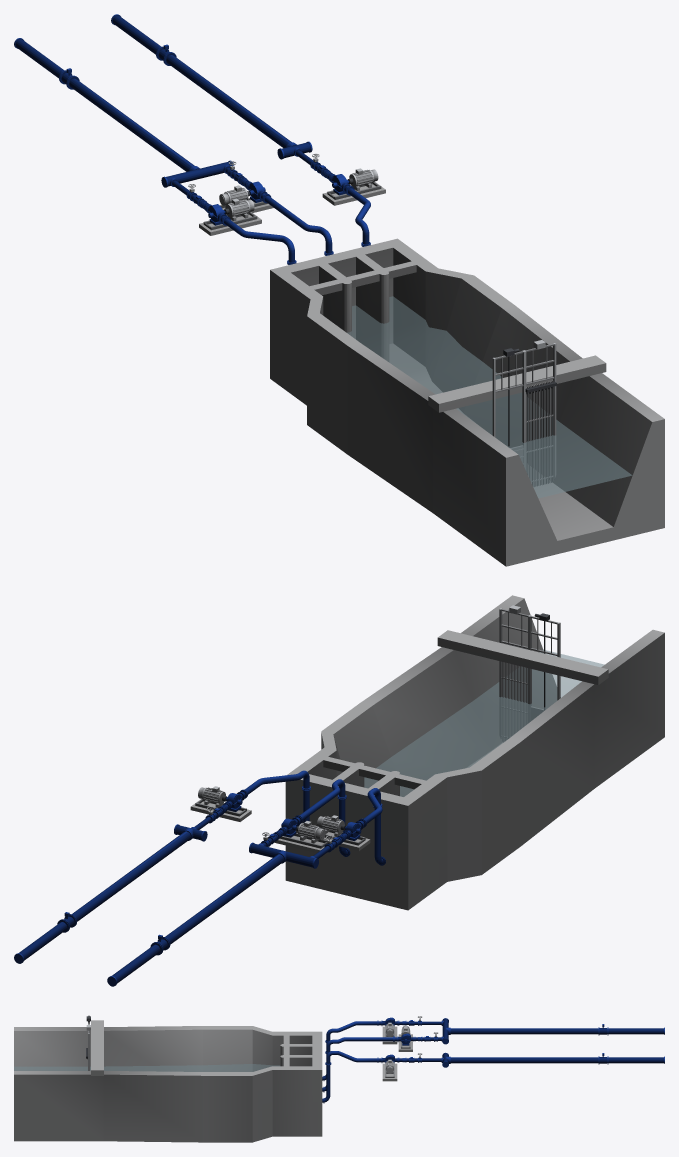
The picture shows the model from 3 angles, top to bottom: view 1: azimuth 30°, elevation 25°; view 2: azimuth 150°, elevation 25°; view 3: azimuth 270°, elevation 25°; orthographic projection. The views are drawn at different scales.
Parts seen in each view (by area): view 1: STATIC__CIVIL, BASIN-01, RACK-01__RACK__BARS, HDR-01__HDR__PIPE, HDR-02__HDR__PIPE, GATE-01__GATE__FRAME; view 2: STATIC__CIVIL, BASIN-01, HDR-01__HDR__PIPE, RACK-01__RACK__BARS, HDR-02__HDR__PIPE, GATE-01__GATE__FRAME, PMP-02__PIPE__SUCTION, PMP-01__PIPE__SUCTION, PMP-03__PIPE__SUCTION; view 3: STATIC__CIVIL, HDR-01__HDR__PIPE, HDR-02__HDR__PIPE, BASIN-01, PMP-03__PIPE__SUCTION, PMP-02__PIPE__SUCTION, PMP-01__PIPE__SUCTION.
Part boxes in pixels (box(x1,y1,x2,y2)): STATIC__CIVIL: box(199, 181, 664, 566); BASIN-01: box(347, 296, 632, 498); RACK-01__RACK__BARS: box(523, 340, 556, 486); HDR-01__HDR__PIPE: box(14, 38, 234, 187); HDR-02__HDR__PIPE: box(111, 14, 312, 159); GATE-01__GATE__FRAME: box(492, 350, 525, 469); STATIC__CIVIL: box(190, 595, 664, 910); BASIN-01: box(364, 649, 604, 796); HDR-01__HDR__PIPE: box(107, 842, 318, 986); RACK-01__RACK__BARS: box(499, 605, 530, 742); HDR-02__HDR__PIPE: box(14, 824, 207, 963); GATE-01__GATE__FRAME: box(528, 615, 560, 722); PMP-02__PIPE__SUCTION: box(295, 779, 350, 856); PMP-01__PIPE__SUCTION: box(358, 788, 385, 865); PMP-03__PIPE__SUCTION: box(240, 770, 310, 822); STATIC__CIVIL: box(14, 1020, 412, 1142); HDR-01__HDR__PIPE: box(441, 1018, 664, 1044); HDR-02__HDR__PIPE: box(441, 1052, 664, 1067); BASIN-01: box(14, 1064, 279, 1071); PMP-03__PIPE__SUCTION: box(322, 1051, 381, 1103); PMP-02__PIPE__SUCTION: box(322, 1036, 397, 1092); PMP-01__PIPE__SUCTION: box(322, 1020, 381, 1080).
Size of the model in its own units: 13.16 by 10.64 by 65.45.
